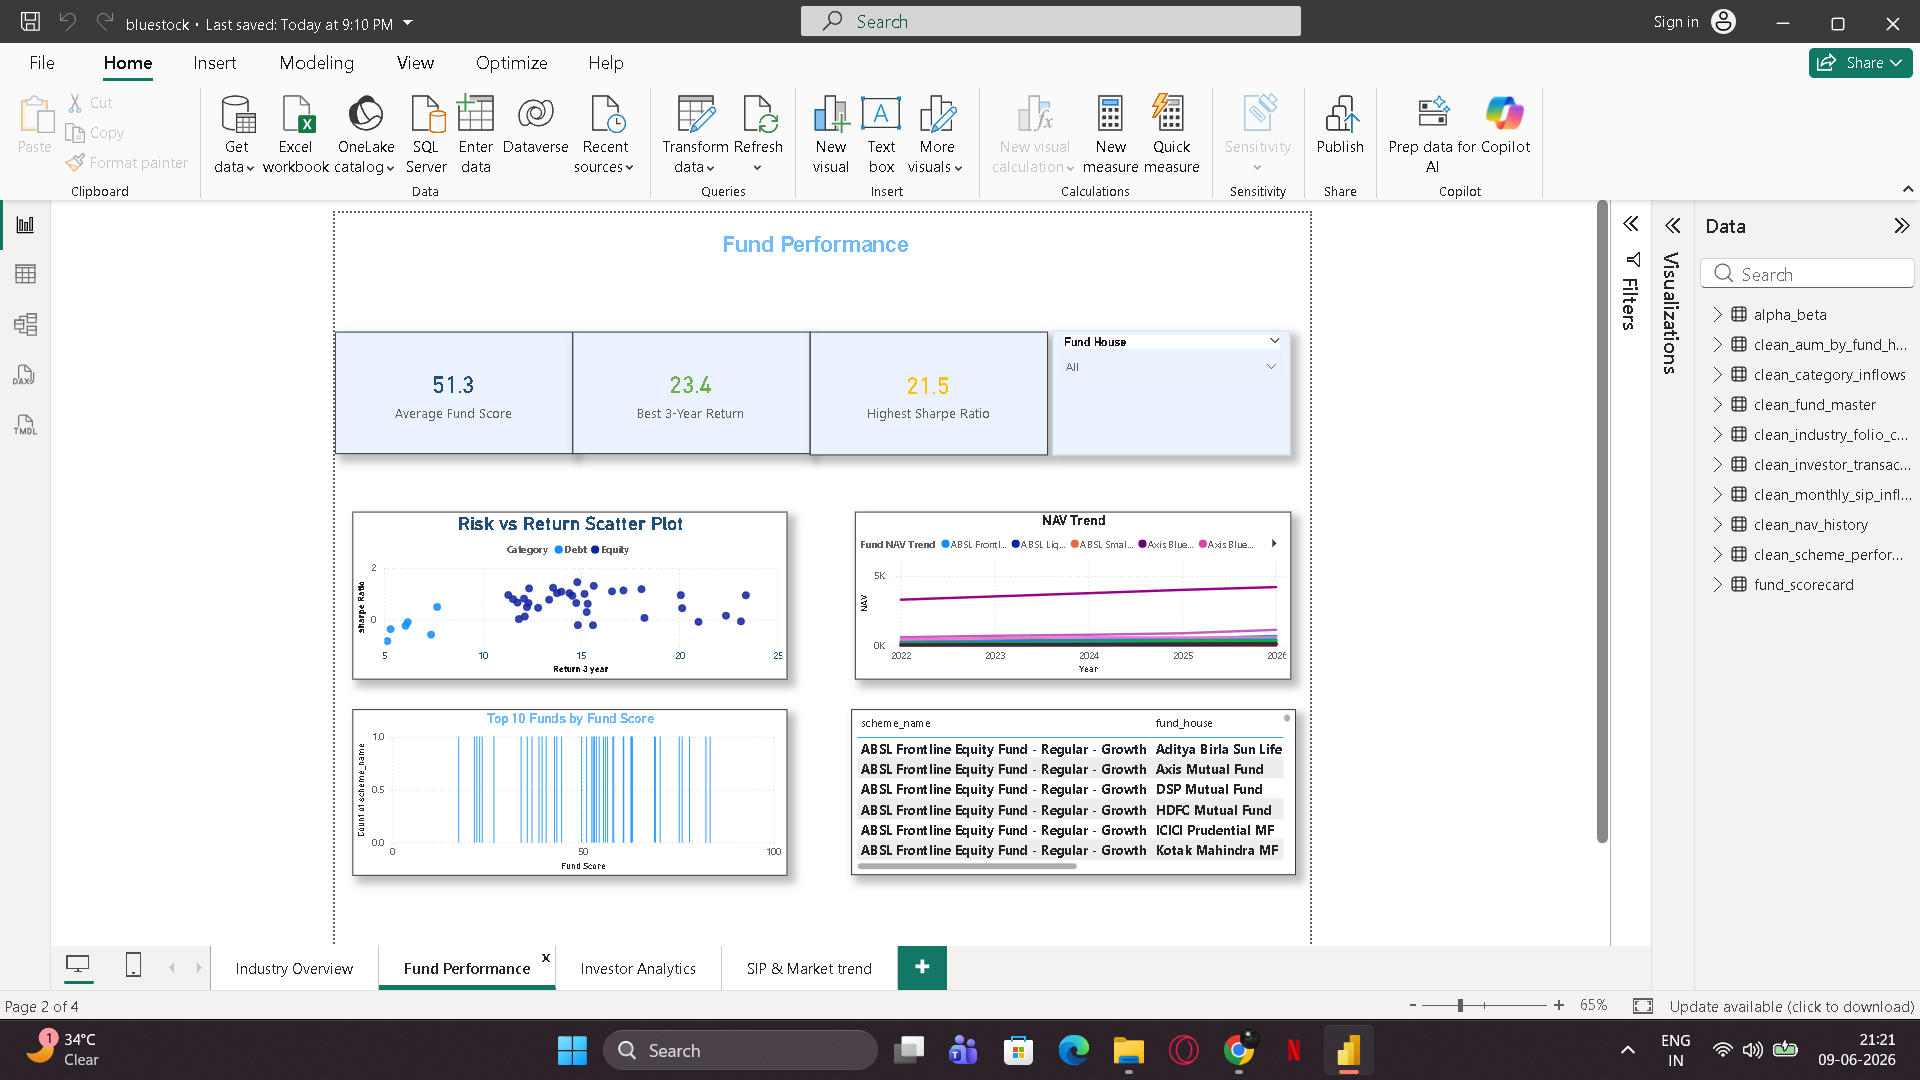

The page's visual inventory and layout, read from the dashboard file:
{"tool":"powerbi","page":{"name":"Fund Performance","canvas":[1200,1050],"ordinal":1},"visuals":[{"type":"textbox","box":[0,0,1182.3,96.2],"z":0},{"type":"card","fields":{"Values":["Avg(fund_scorecard.fund_score)"]},"box":[0,145.6,292.4,150.6],"z":1000},{"type":"card","fields":{"Values":["Max(fund_scorecard.return_3yr_pct)"]},"box":[292.4,145.6,292.4,150.6],"z":2000},{"type":"card","fields":{"Values":["Sum(fund_scorecard.sharpe_ratio)"]},"box":[584.8,145.6,292.4,151.9],"z":3000},{"type":"scatterChart","title":"       Risk vs Return Scatter Plot  ","fields":{"X":["fund_scorecard.return_3yr_pct"],"Y":["fund_scorecard.sharpe_ratio"],"Series":["clean_fund_master.category"]},"box":[21.5,368.4,535.4,206.3],"z":4000},{"type":"lineChart","title":"NAV Trend","fields":{"Category":["clean_nav_history.date.Variation.Date Hierarchy.Year"],"Y":["Avg(clean_nav_history.nav)"],"Series":["clean_fund_master.scheme_name"]},"box":[640.5,368.4,536.7,206.3],"z":5000},{"type":"clusteredColumnChart","title":"Top 10 Funds by Fund Score","fields":{"Y":["CountNonNull(fund_scorecard.scheme_name)"],"Category":["fund_scorecard.fund_score"]},"box":[21.5,611.4,535.4,205.1],"z":6000},{"type":"tableEx","fields":{"Values":["clean_fund_master.scheme_name","clean_aum_by_fund_house.fund_house","fund_scorecard.return_3yr_pct","clean_scheme_performance.sharpe_ratio","alpha_beta.alpha","alpha_beta.beta","fund_scorecard.max_drawdown","fund_scorecard.fund_score"]},"box":[635.4,611.4,546.8,203.8],"z":7000},{"type":"slicer","fields":{"Values":["clean_fund_master.fund_house"]},"box":[882.8,144.8,293.1,153.4],"z":8000}]}

Visuals, with their boxes on the page's 1200x1050 design canvas (x1, y1, x2, y2). These are canvas units, not pixel positions in the 1920x1080 screenshot, which may show the page scaled, cropped or inside an application window:
textbox: crop(0, 0, 1182, 96)
card - Avg(fund_scorecard.fund_score): crop(0, 146, 292, 296)
card - Max(fund_scorecard.return_3yr_pct): crop(292, 146, 585, 296)
card - Sum(fund_scorecard.sharpe_ratio): crop(585, 146, 877, 298)
"       Risk vs Return Scatter Plot  " scatterChart: crop(22, 368, 557, 575)
"NAV Trend" lineChart: crop(640, 368, 1177, 575)
"Top 10 Funds by Fund Score" clusteredColumnChart: crop(22, 611, 557, 816)
tableEx - clean_fund_master.scheme_name x clean_aum_by_fund_house.fund_house: crop(635, 611, 1182, 815)
slicer - clean_fund_master.fund_house: crop(883, 145, 1176, 298)
